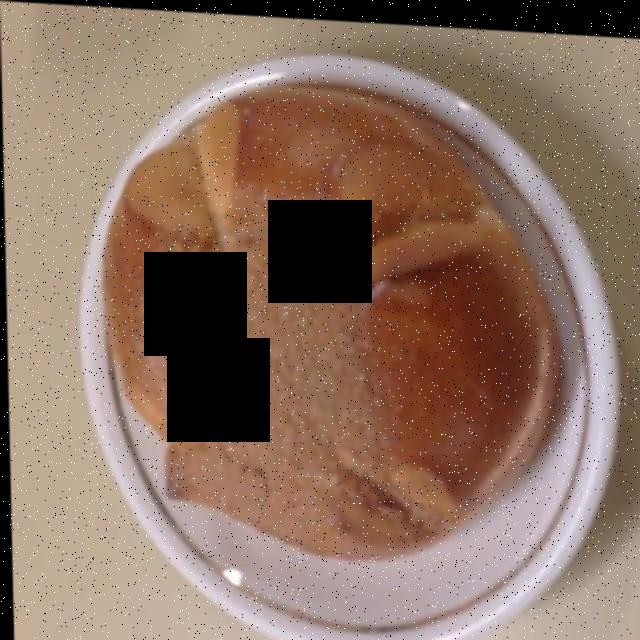brioche: (97, 72, 537, 547)
